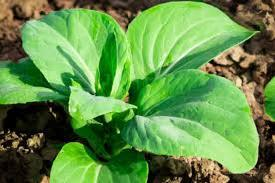Healthy-Pechay: (25, 1, 238, 175)
